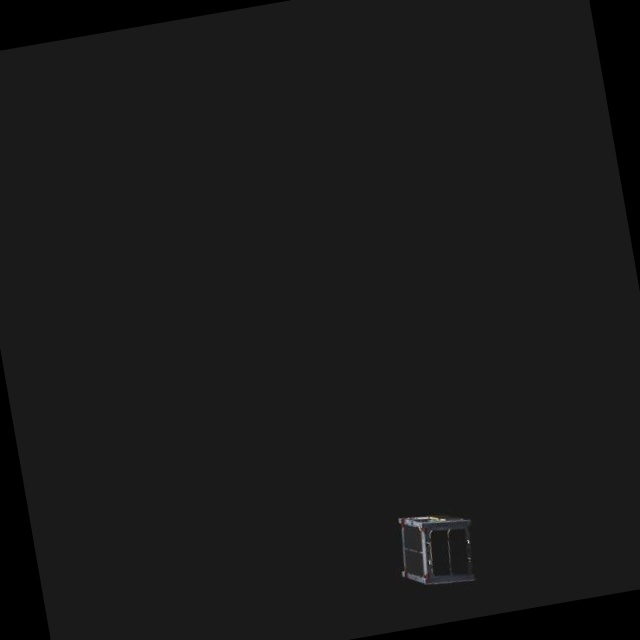medium_debris: (385, 495, 488, 600)
